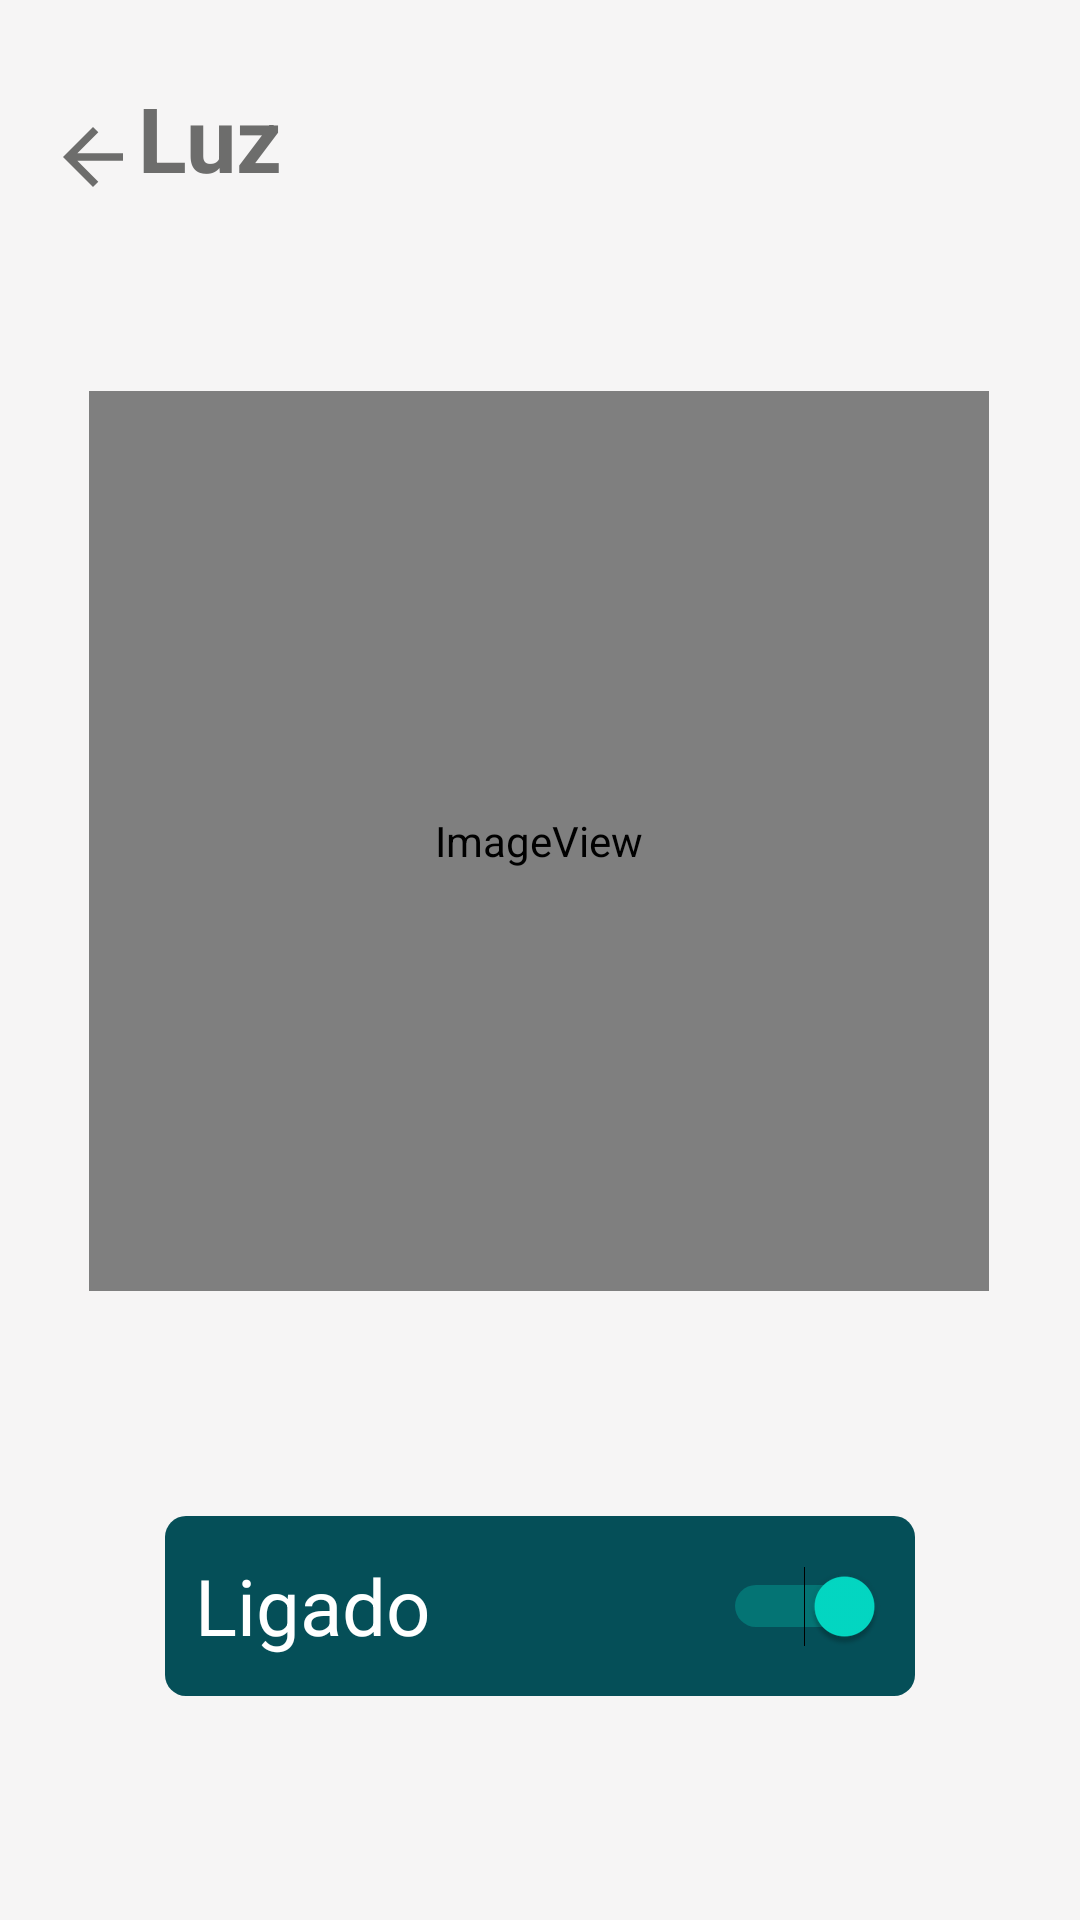

Where icons sit on this 1080*1920 app screen, as (x1, y1, x2, y2):
arrowback: (63, 127, 123, 187)
